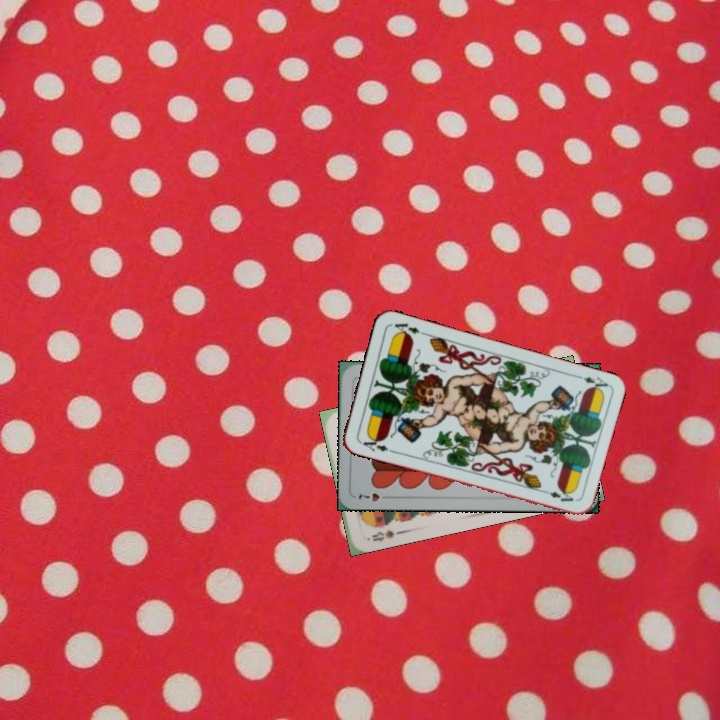EA: (571, 371, 611, 394), (356, 432, 391, 454)
H7: (355, 489, 393, 504)
S8: (368, 526, 402, 544)
